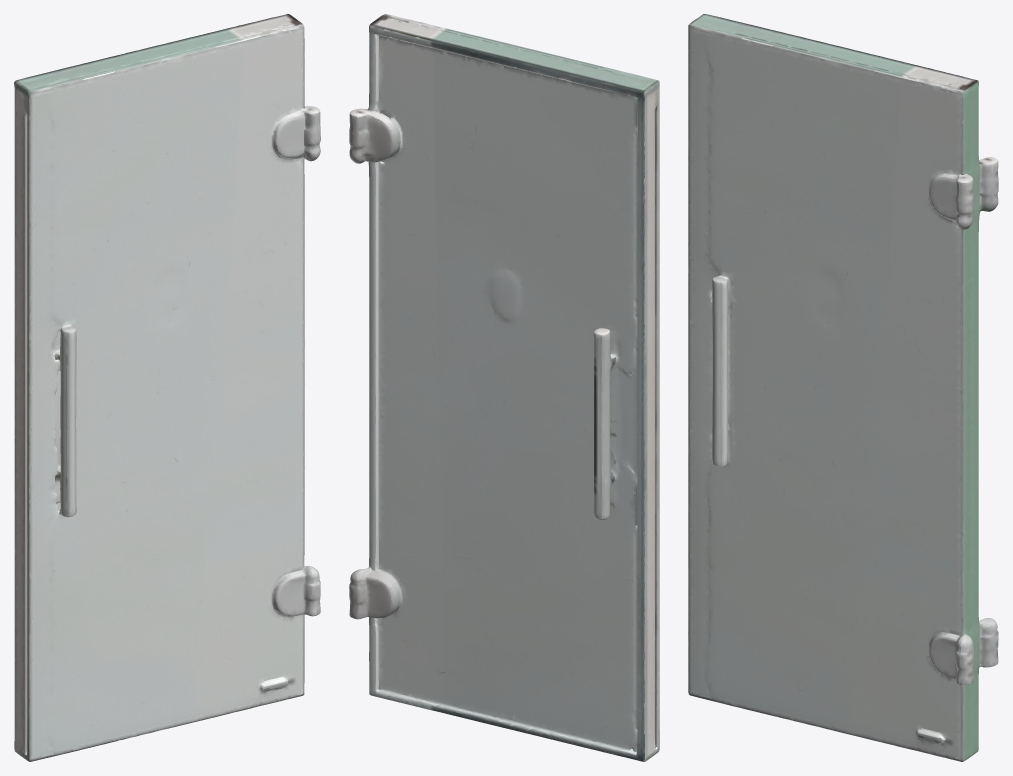
File: item_1a41645b.glb
The picture shows the model from 3 angles, left to right: view 1: azimuth 30°, elevation 25°; view 2: azimuth 150°, elevation 25°; view 3: azimuth 330°, elevation 25°; orthographic projection.
Visible parts, largest first — view 1: geometry_0; view 2: geometry_0; view 3: geometry_0.
Boxes of the visible parts, left/top/right/bottom form: geometry_0: left=14, top=14, right=320, bottom=761; geometry_0: left=349, top=14, right=659, bottom=761; geometry_0: left=688, top=14, right=998, bottom=761.
Bounding box in the file's own units: 1.9 × 4.23 × 0.3981.
Materials: 1 (1 with a texture image).
